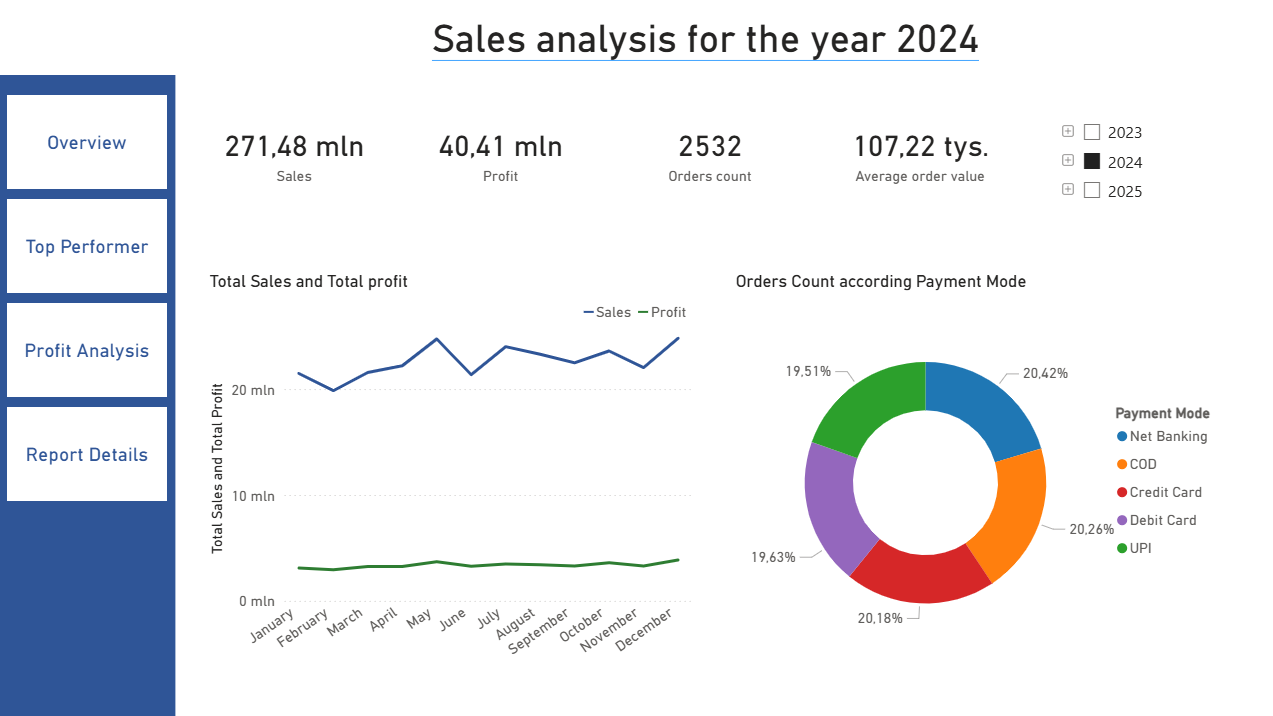

This screenshot's page, from the dashboard's own definition file:
{"tool":"powerbi","page":{"name":"Overview ","canvas":[1280,720],"ordinal":0},"visuals":[{"type":"textbox","box":[0,75,178.1,645.3],"z":0,"group":"g3"},{"type":"card","fields":{"Values":["Ecommerce_Sales_Data_2024_2025.Total Sales"]},"box":[214.2,111.9,167.4,80.8],"z":1000},{"type":"card","fields":{"Values":["Ecommerce_Sales_Data_2024_2025.Total profit"]},"box":[419.1,111.9,170.2,80.8],"z":2000},{"type":"card","fields":{"Values":["# Miary.# Orders count"]},"box":[624,111.9,178.9,80.8],"z":3000},{"type":"textbox","box":[429.9,11.8,584.4,62.1],"z":4000},{"type":"lineChart","title":"Total Sales and Total profit","fields":{"Y":["# Miary.$ Total Sales","# Miary.$ Total profit"],"Category":["Kalendarz.Nazwa miesiąca EN"]},"box":[207.5,271.2,492.5,403.8],"z":5000},{"type":"card","fields":{"Values":["# Miary.# Average order value"]},"box":[837.5,111.9,171.7,80.8],"z":6000},{"type":"donutChart","title":"Orders Count according Payment Mode","fields":{"Category":["Ecommerce_Sales_Data_2024_2025.Payment Mode"],"Y":["# Miary.# Orders count"]},"box":[734,271.4,507.8,404.2],"z":7000},{"type":"group","id":"g1","title":"Grupa 1","box":[0,75,178.1,645.3],"z":7500},{"type":"slicer","fields":{"Values":["Kalendarz.Year","Kalendarz.Year-month"]},"box":[1050,112.5,191.2,117.5],"z":8000},{"type":"group","id":"g2","title":"Grupa 2","box":[0,75,178.1,645.3],"z":8001,"group":"g1"},{"type":"group","id":"g3","title":"Grupa 3","box":[0,75,178.1,645.3],"z":8001,"group":"g2"},{"type":"pageNavigator","box":[9.4,95.3,160.9,409.4],"z":9000,"group":"g3"}]}

Visuals, with their boxes in screenshot pixels (x1, y1, x2, y2), scaled from the page's 1280x720 canvas onto the 1273x716 screenshot:
textbox: crop(0, 75, 177, 715)
card - Ecommerce_Sales_Data_2024_2025.Total Sales: crop(213, 111, 380, 192)
card - Ecommerce_Sales_Data_2024_2025.Total profit: crop(417, 111, 586, 192)
card - # Miary.# Orders count: crop(621, 111, 799, 192)
textbox: crop(428, 12, 1009, 73)
"Total Sales and Total profit" lineChart: crop(206, 270, 696, 671)
card - # Miary.# Average order value: crop(833, 111, 1004, 192)
"Orders Count according Payment Mode" donutChart: crop(730, 270, 1235, 672)
"Grupa 1" group: crop(0, 75, 177, 715)
slicer - Kalendarz.Year x Kalendarz.Year-month: crop(1044, 112, 1234, 229)
"Grupa 2" group: crop(0, 75, 177, 715)
"Grupa 3" group: crop(0, 75, 177, 715)
pageNavigator: crop(9, 95, 169, 502)
